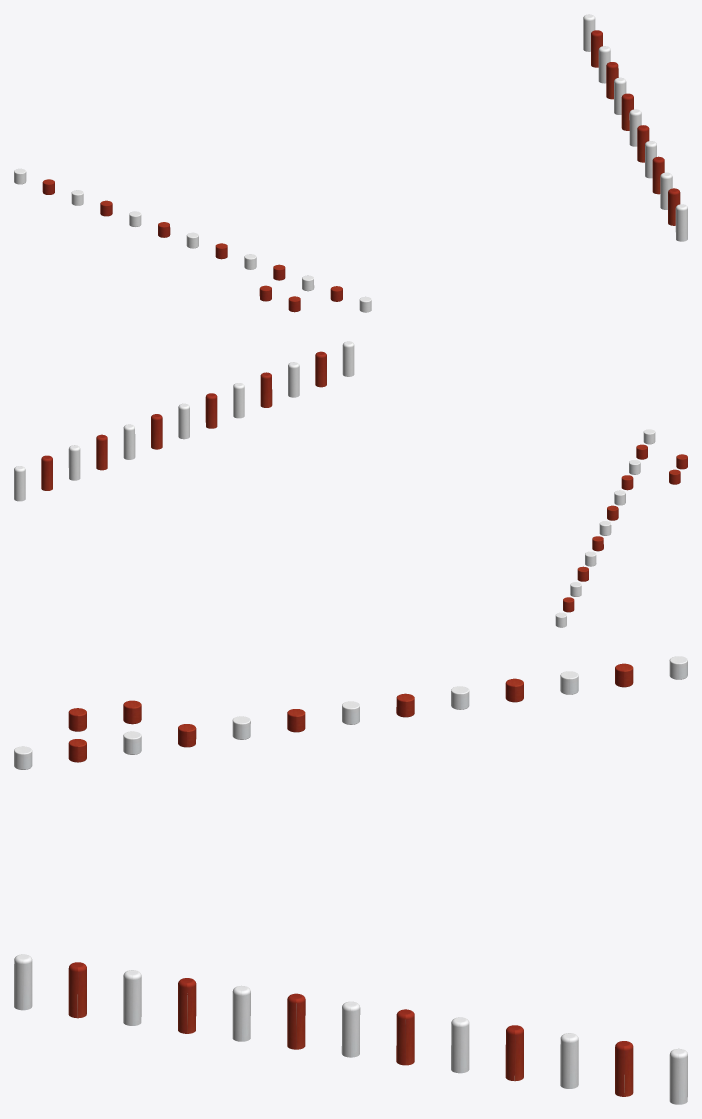
Rendered from weitiaogunzhou.fbx.
The picture shows the model from 3 angles, top to bottom: view 1: azimuth 30°, elevation 25°; view 2: azimuth 150°, elevation 25°; view 3: azimuth 270°, elevation 25°; orthographic projection. The views are drawn at different scales.
Visible parts, largest first — view 1: 物件_433; view 2: 物件_433, 物件_428; view 3: 物件_435, 物件_428, 物件_433, 物件_436, 物件_440, 物件_429, 物件_439, 物件_432, 物件_431, 物件_438, 物件_437, 物件_430 (+1 smaller).
Boxes of the visible parts, x1,y1,x2,y2 form: 物件_433: (675, 204, 687, 241); 物件_433: (342, 341, 354, 376); 物件_428: (205, 393, 217, 428); 物件_435: (396, 1009, 414, 1065); 物件_428: (287, 993, 305, 1049); 物件_433: (14, 954, 32, 1010); 物件_436: (451, 1017, 469, 1073); 物件_440: (669, 1048, 687, 1104); 物件_429: (232, 985, 250, 1041); 物件_439: (615, 1041, 633, 1096); 物件_432: (68, 962, 86, 1018); 物件_431: (123, 970, 141, 1025); 物件_438: (560, 1033, 578, 1088); 物件_437: (505, 1025, 523, 1081); 物件_430: (178, 978, 196, 1033).
Size of the model in its own units: 55 by 3.13 by 37.01.
Materials: 2 (2 with a texture image).
